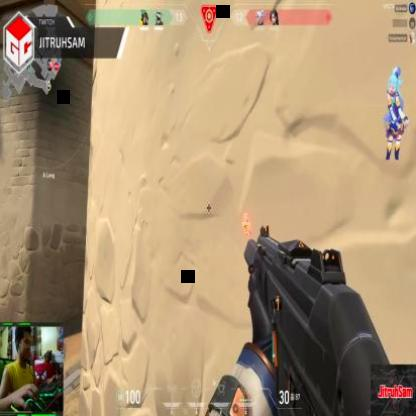enemy: (242, 210, 250, 235)
enemy_head: (244, 213, 247, 219)
